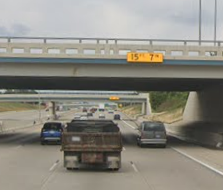1: (130, 52, 134, 61)
5: (133, 52, 139, 61)
7: (147, 52, 154, 63)
overheadsign: (126, 51, 162, 63)
